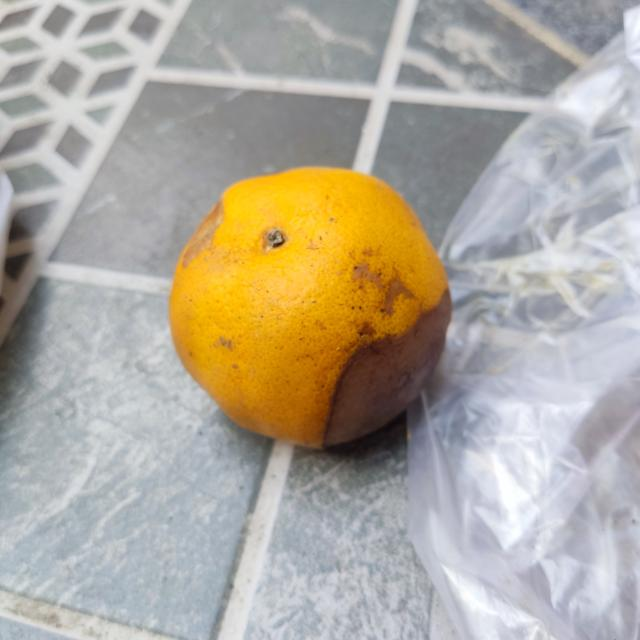orange: (164, 163, 456, 460)
